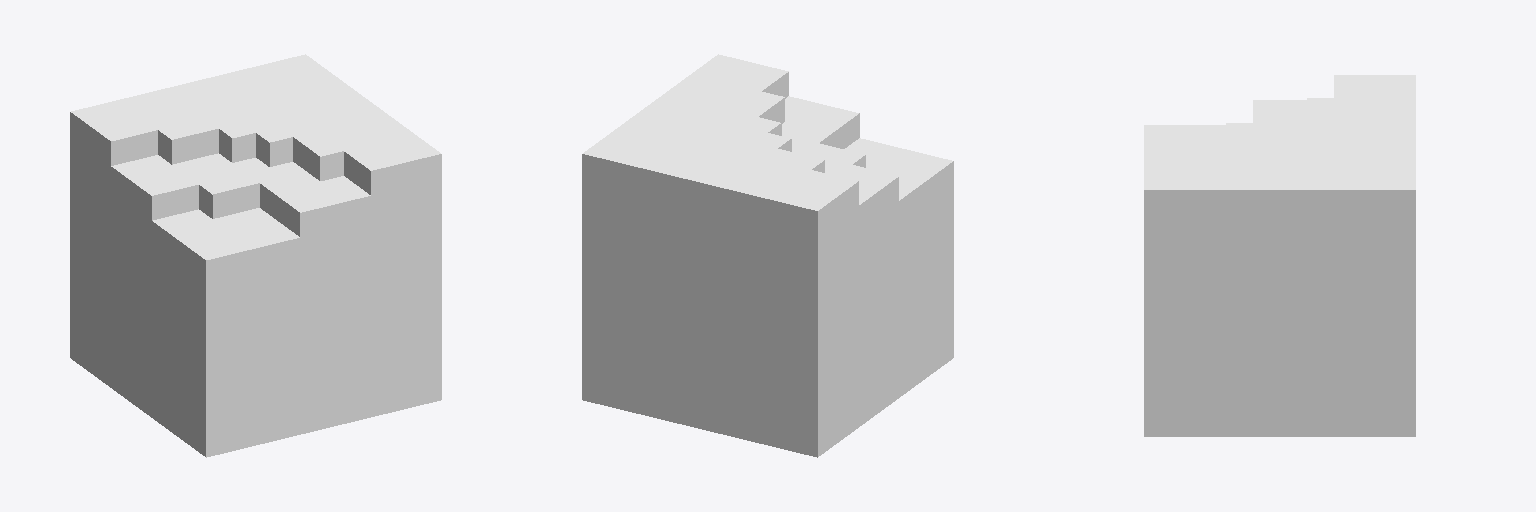
File: Lehm_Ecke-0.1.obj
3 views of the same model, side by side, from view 1: azimuth 30°, elevation 25°; view 2: azimuth 150°, elevation 25°; view 3: azimuth 270°, elevation 25° (orthographic).
Visible parts, largest first — view 1: object 1; view 2: object 1; view 3: object 1.
Boxes of the visible parts, box(x1,y1,x2,y2) form: object 1: box(70, 54, 441, 457); object 1: box(582, 54, 953, 457); object 1: box(1144, 75, 1415, 436).
Size of the model in its own units: 1 by 1 by 1.